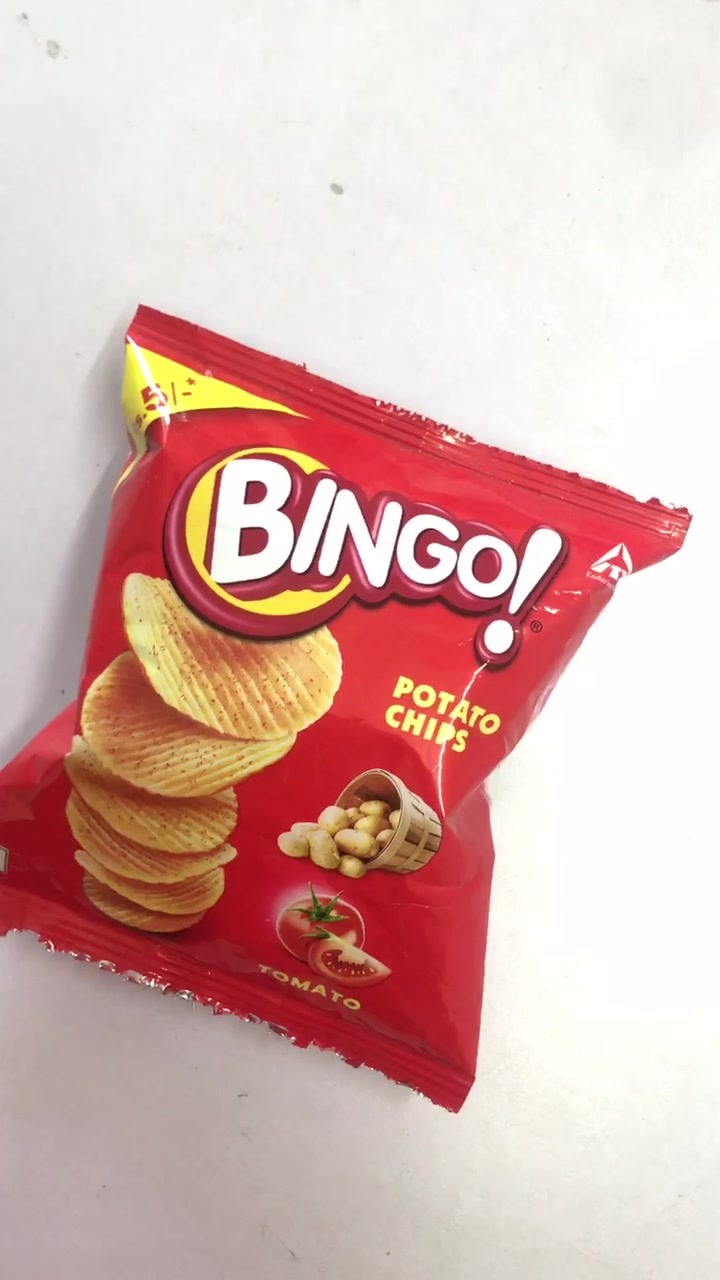Bingo: (5, 309, 688, 1117)
